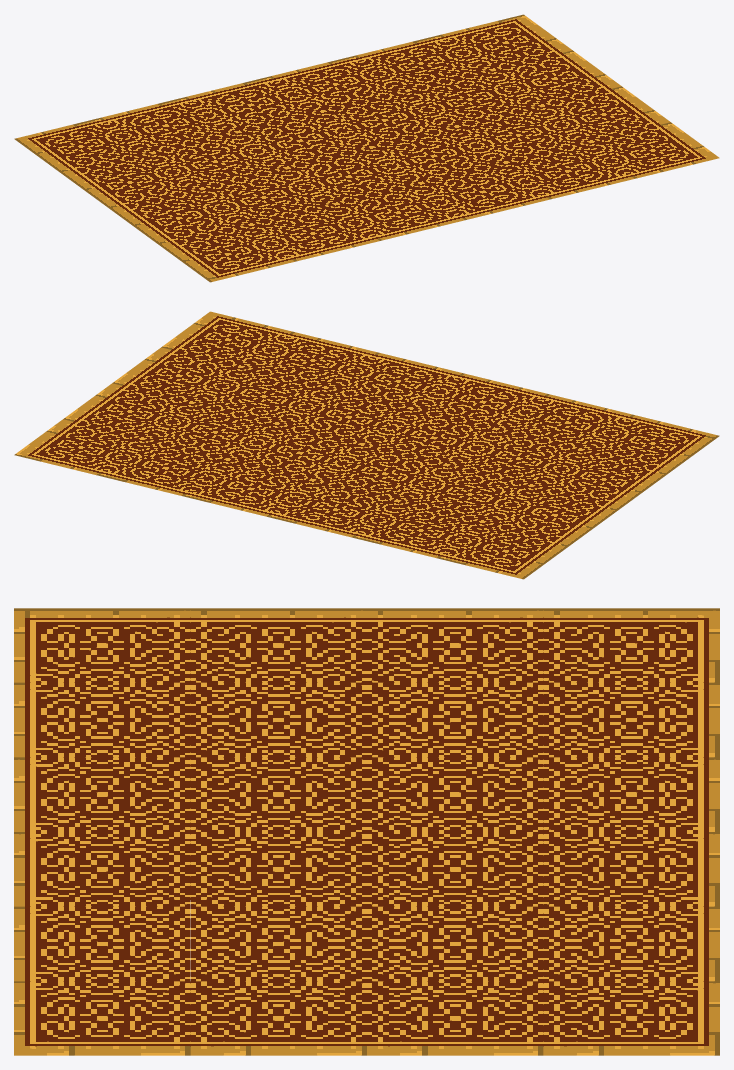
The model's file is rug.gltf.
3 renders of one model, top to bottom at view 1: azimuth 30°, elevation 25°; view 2: azimuth 150°, elevation 25°; view 3: azimuth 270°, elevation 25°, orthographic. The views are drawn at different scales.
Parts seen in each view (by area): view 1: rug; view 2: rug; view 3: rug.
Part boxes in pixels (x1,y1,x2,y2): rug: (14,14,719,282); rug: (14,311,719,579); rug: (14,608,719,1055).
Bounding box in the file's own units: 24 × 0 × 16.
Materials: 9 (9 with a texture image).
